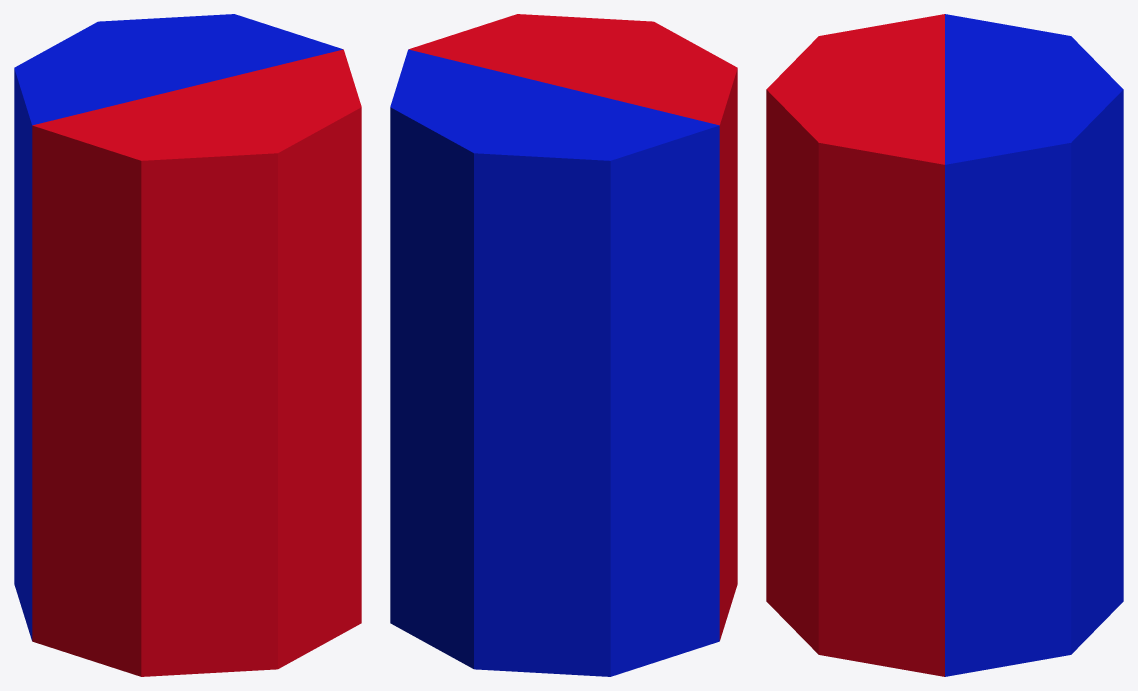
The model's file is testrail.fbx.
The picture shows the model from 3 angles, left to right: view 1: azimuth 30°, elevation 25°; view 2: azimuth 150°, elevation 25°; view 3: azimuth 270°, elevation 25°; orthographic projection.
Parts seen in each view (by area): view 1: Cylinder; view 2: Cylinder; view 3: Cylinder.
Boxes of the visible parts, x1=… form: Cylinder: x1=14, y1=14, x2=361, y2=676; Cylinder: x1=390, y1=14, x2=737, y2=676; Cylinder: x1=766, y1=14, x2=1123, y2=676.
Bounding box in the file's own units: 238 × 376 × 238.
